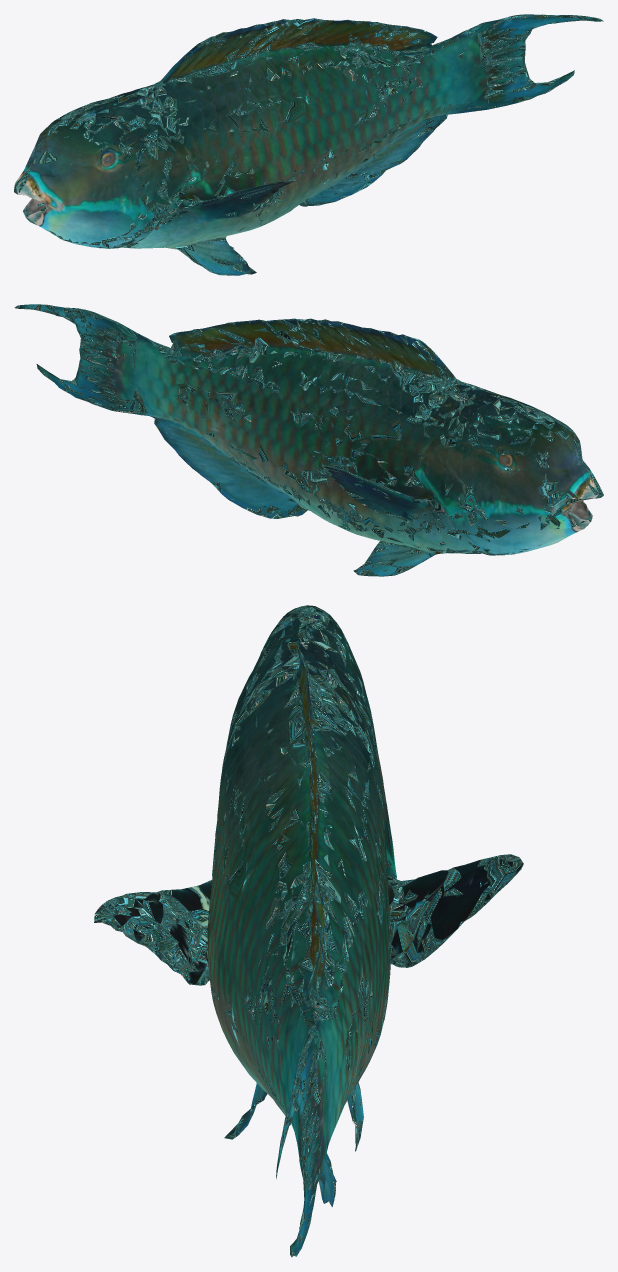
Rendered from parrotfish.glb.
3 views of the same model, one above another, from view 1: azimuth 30°, elevation 25°; view 2: azimuth 150°, elevation 25°; view 3: azimuth 270°, elevation 25° (orthographic). The views are drawn at different scales.
Parts seen in each view (by area): view 1: Object_6; view 2: Object_6; view 3: Object_6.
Part boxes in pixels (<box>): Object_6: <box>14,14,603,275</box>; Object_6: <box>14,304,603,576</box>; Object_6: <box>94,605,523,1257</box>.
Bounding box in the file's own units: 1 × 0.3827 × 0.3204.
Materials: 1 (1 with a texture image).
